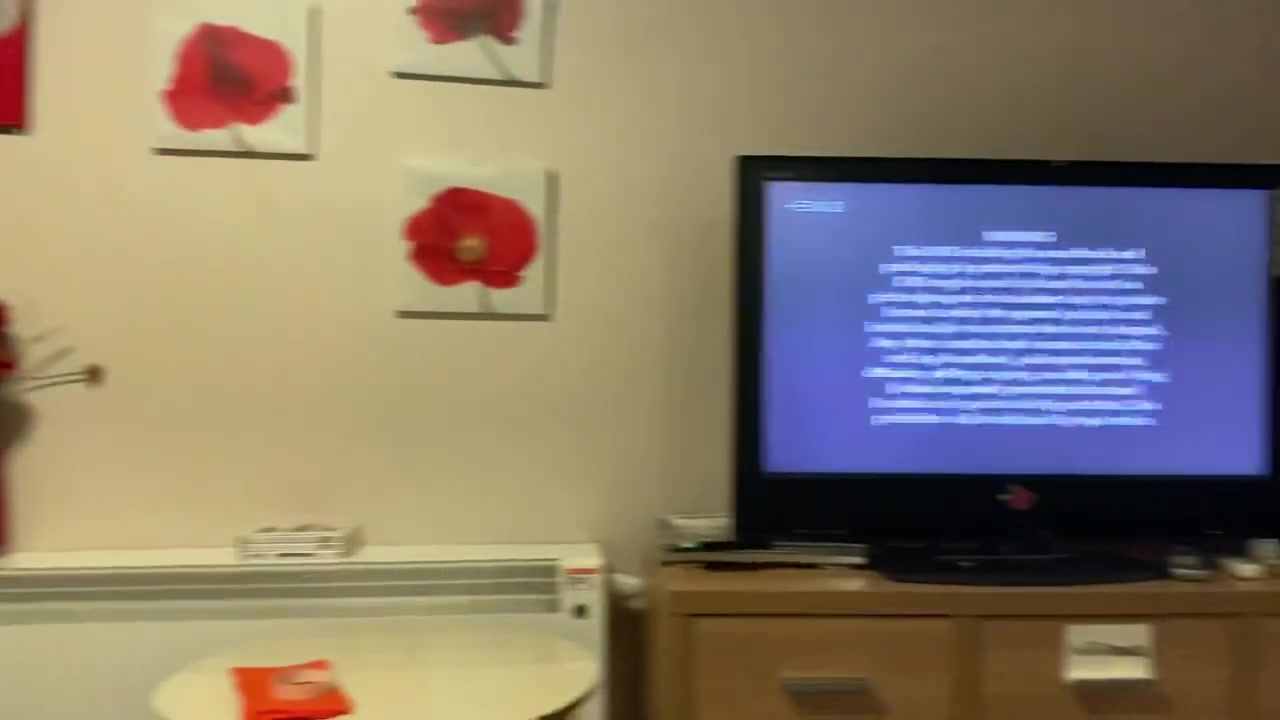TV: (721, 150, 1280, 578)
handle: (776, 674, 869, 696)
